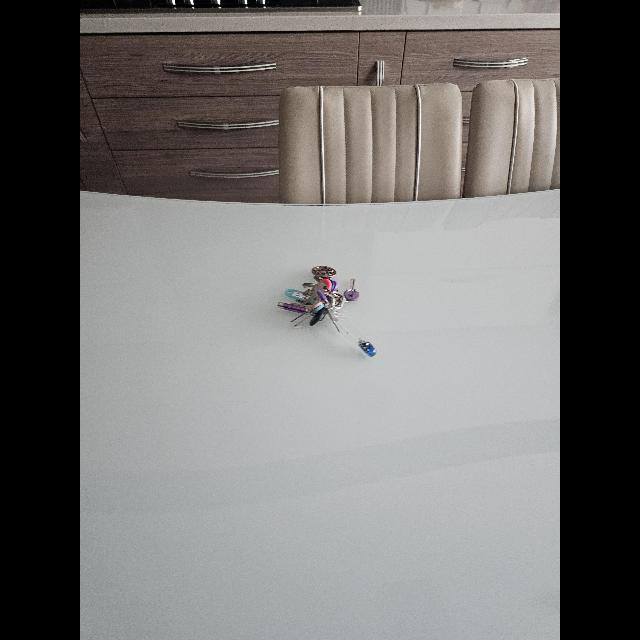Keys: (280, 268, 376, 354)
